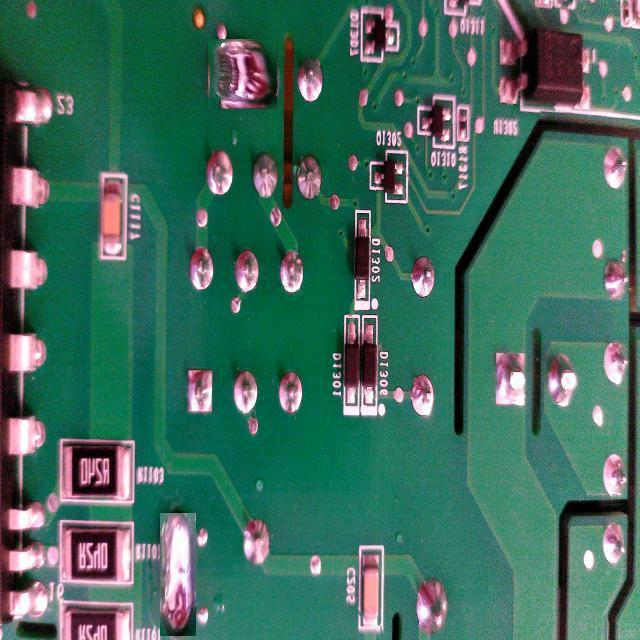Short_circuit: (208, 39, 278, 109), (160, 514, 197, 638)
